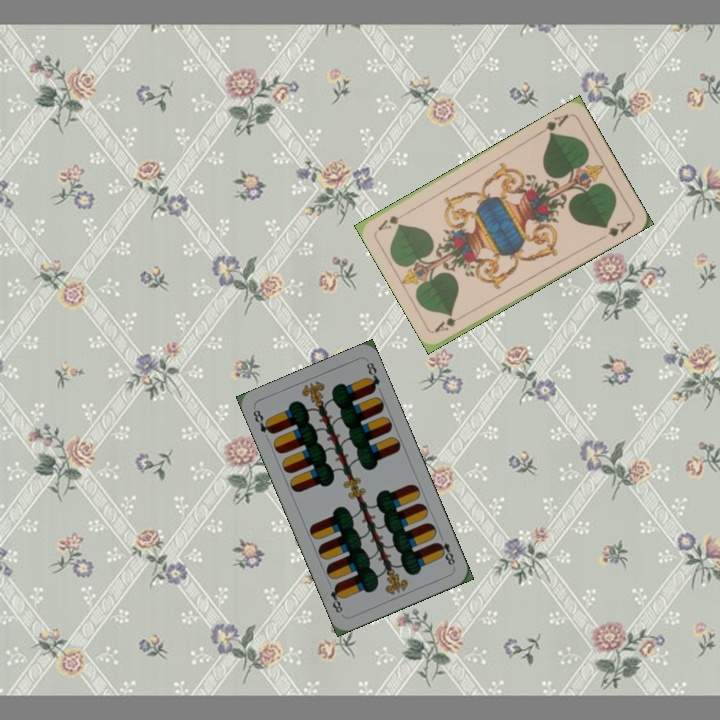E8: (432, 531, 458, 568), (249, 405, 276, 437)
GA: (535, 110, 571, 139), (431, 309, 469, 335)
